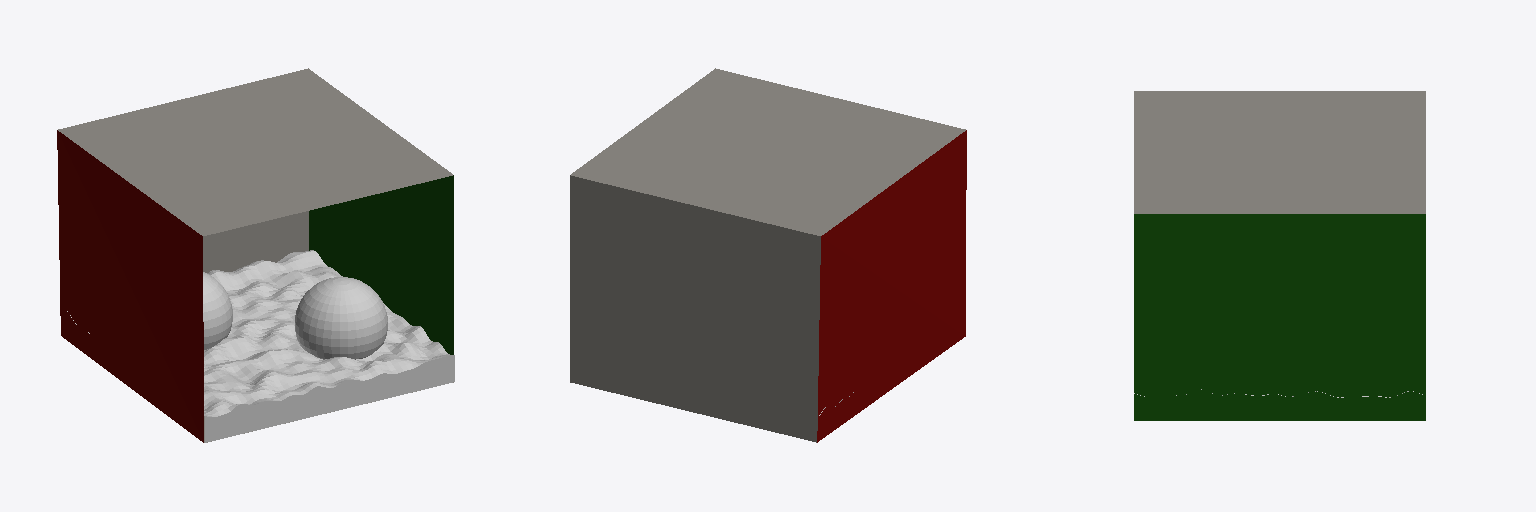
The model's file is cornell-water.obj.
The picture shows the model from 3 angles: view 1: azimuth 30°, elevation 25°; view 2: azimuth 150°, elevation 25°; view 3: azimuth 270°, elevation 25°; orthographic projection.
Visible parts, largest first — view 1: ceiling, leftWall, water, rightWall, rightSphere, backWall, leftSphere; view 2: backWall, ceiling, leftWall; view 3: rightWall, ceiling.
Boxes of the visible parts, <box> form: ceiling: <box>58,68,452,235</box>; leftWall: <box>57,130,203,442</box>; water: <box>67,250,454,442</box>; rightWall: <box>309,175,453,354</box>; rightSphere: <box>295,277,387,359</box>; backWall: <box>203,211,308,272</box>; leftSphere: <box>203,272,232,349</box>; backWall: <box>570,175,820,442</box>; ceiling: <box>571,68,965,235</box>; leftWall: <box>817,130,966,442</box>; rightWall: <box>1134,214,1425,420</box>; ceiling: <box>1134,91,1425,213</box>.
Bounding box in the file's own units: 2.02 × 1.59 × 2.03.